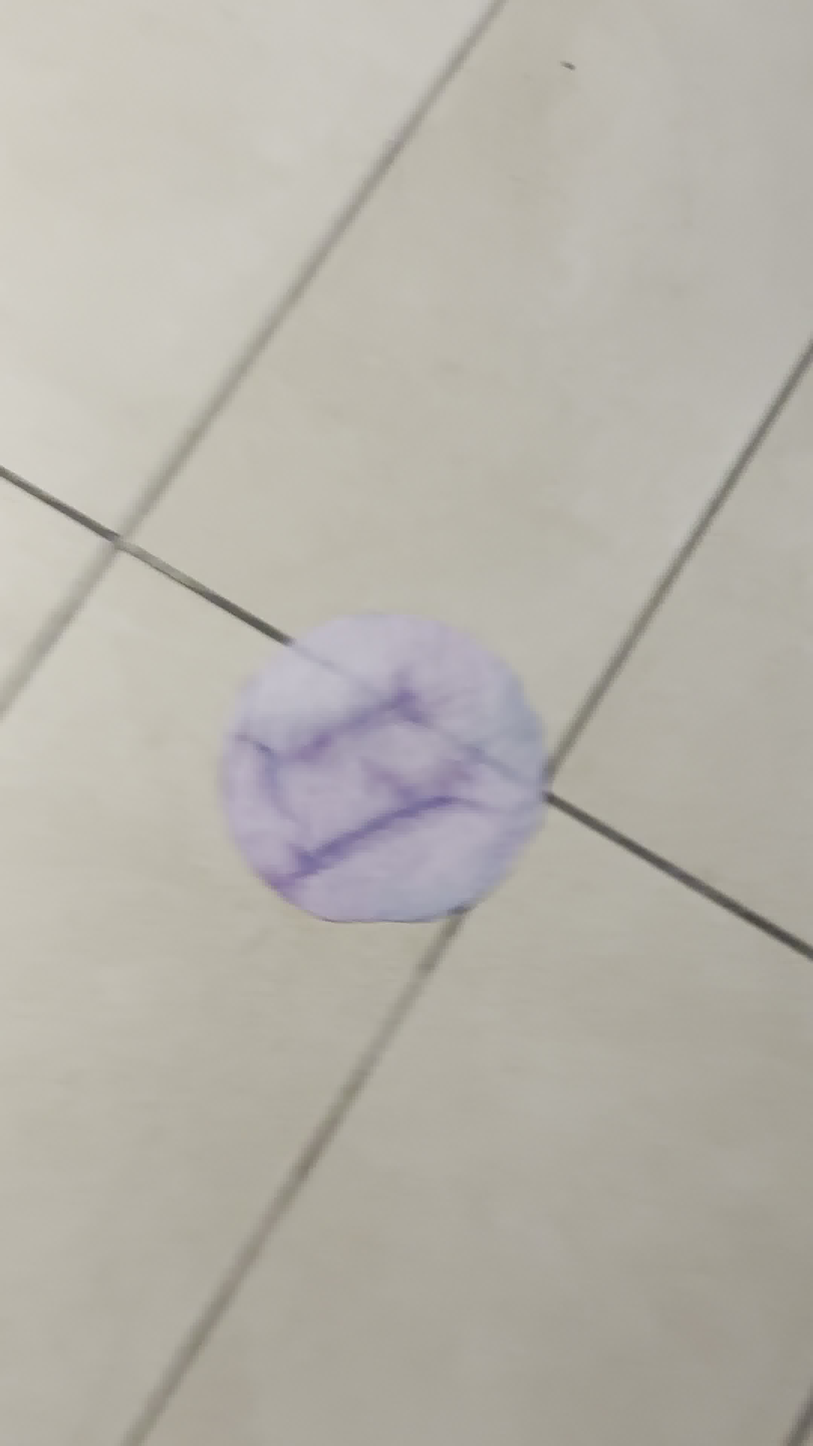Target: (212, 618, 545, 922)
